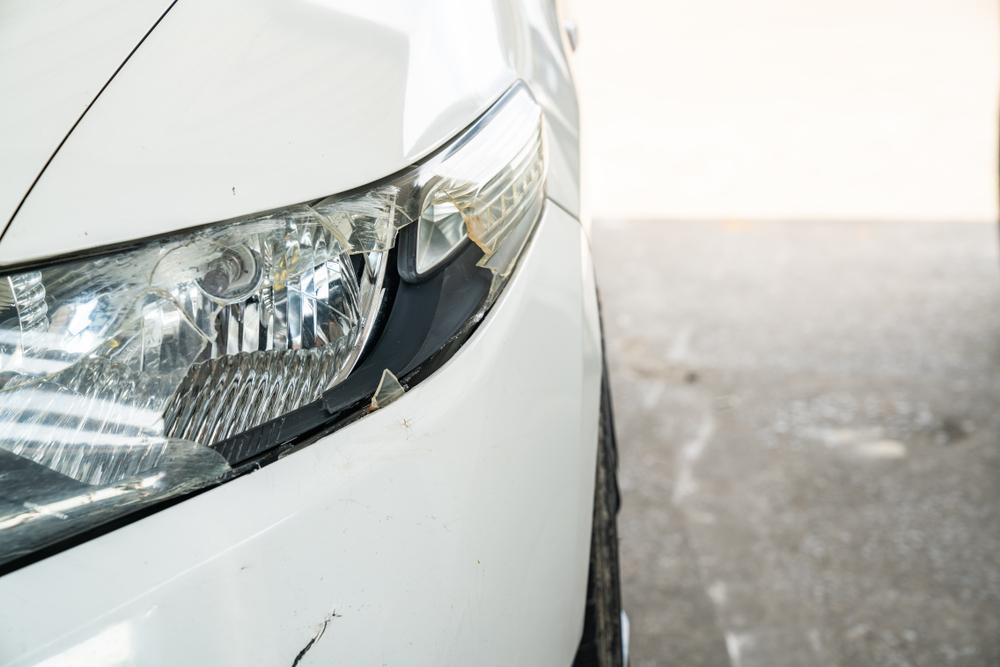lamp broken: (0, 81, 549, 575)
scratch: (290, 608, 340, 667)
